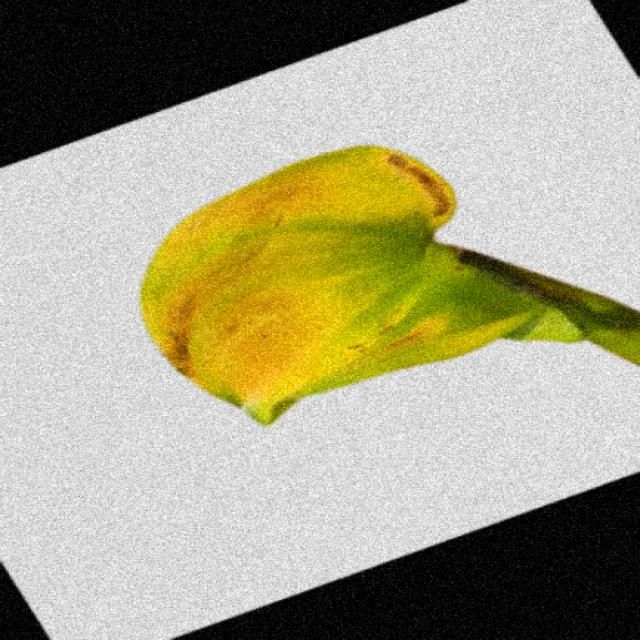daun berpenyakit kuning: (142, 147, 638, 425)
